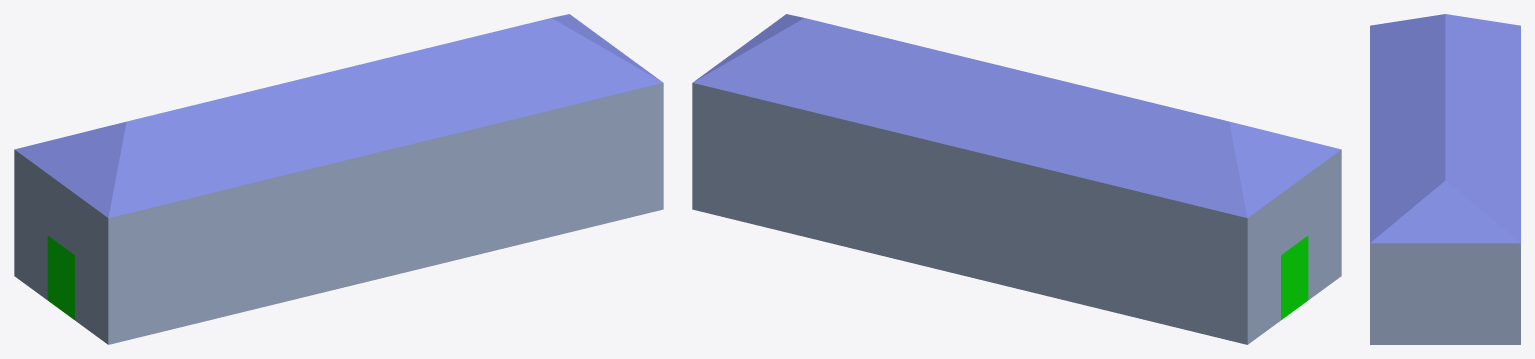
The model's file is Warehouse.glb.
3 views of the same model, side by side, from view 1: azimuth 30°, elevation 25°; view 2: azimuth 150°, elevation 25°; view 3: azimuth 270°, elevation 25° (orthographic). The views are drawn at different scales.
Parts seen in each view (by area): view 1: Floor1, Roof; view 2: Floor1, Roof; view 3: Roof, Floor1.
Boxes of the visible parts, <box> form: Floor1: <box>14,83,663,344</box>; Roof: <box>15,14,662,217</box>; Floor1: <box>692,83,1341,344</box>; Roof: <box>693,14,1340,217</box>; Roof: <box>1370,14,1520,243</box>; Floor1: <box>1370,243,1520,344</box>.
Bounding box in the file's own units: 32.08 × 9.56 × 9.41.
